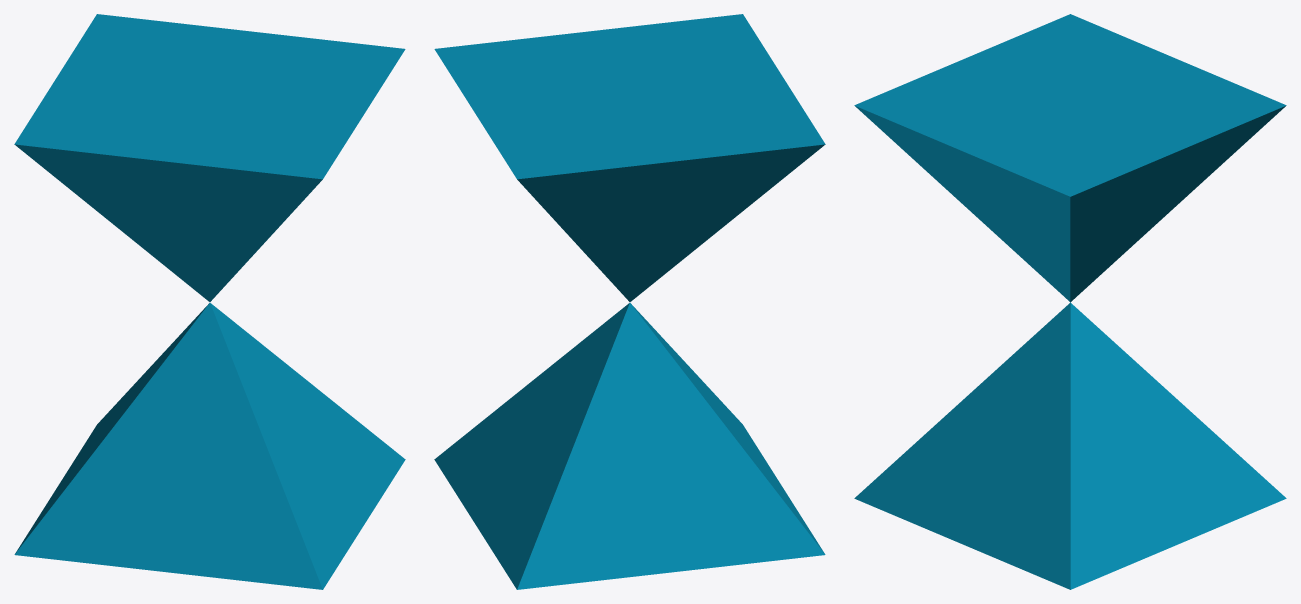
File: CamLight.fbx
3 renders of one model, left to right at view 1: azimuth 30°, elevation 25°; view 2: azimuth 150°, elevation 25°; view 3: azimuth 270°, elevation 25°, orthographic. The views are drawn at different scales.
Parts seen in each view (by area): view 1: testPyrmaid; view 2: testPyrmaid; view 3: testPyrmaid.
Part boxes in pixels (x1=…): testPyrmaid: x1=14, y1=14, x2=405, y2=589; testPyrmaid: x1=434, y1=14, x2=825, y2=589; testPyrmaid: x1=854, y1=14, x2=1286, y2=589.
Size of the model in its own units: 8.57 by 8.59 by 8.57.
